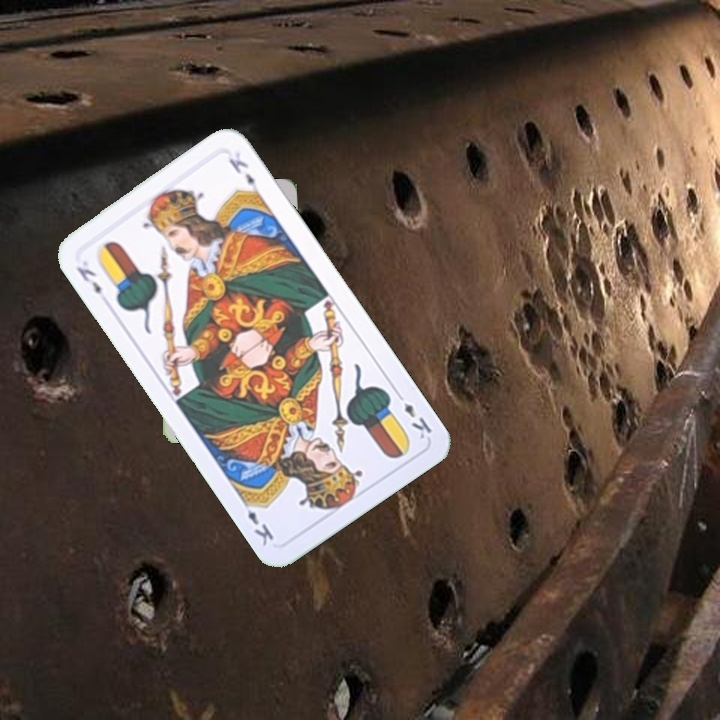EK: (391, 387, 435, 442), (72, 262, 104, 297)
